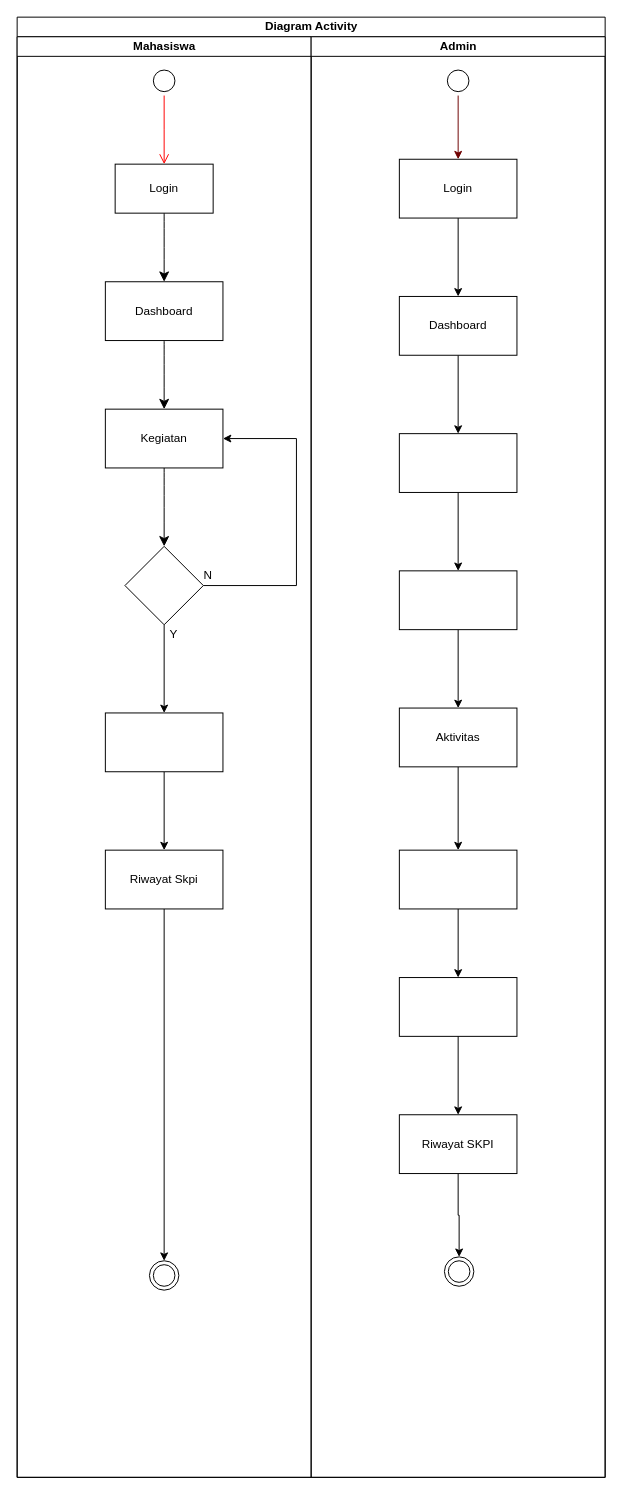
The diagram is 622 pixels wide and 1495 high, and some of its shapes have lost their labels. The centre of each missing label's shape, as x and y in pixels:
"Ajukan SKPI" belongs at pixel 163 742.
"Generate SKPI" belongs at pixel 457 1006.
"Kelola master data" belongs at pixel 457 600.
"Kelola template SKPI" belongs at pixel 457 879.
"Manajement Mahasiswa dan Admin" belongs at pixel 457 462.
"Verifikasi" belongs at pixel 163 585.
